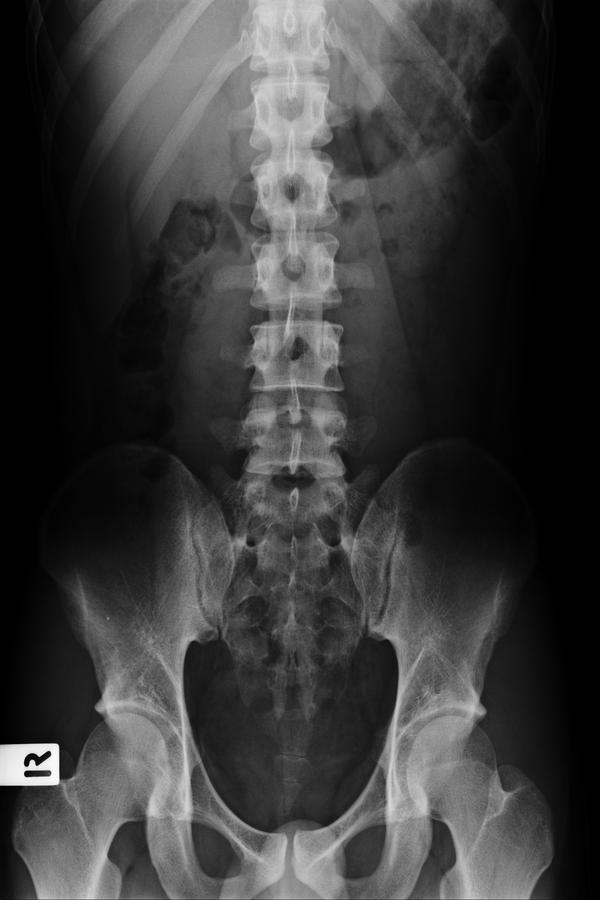lumbar scoliosis: (230, 8, 358, 562)
